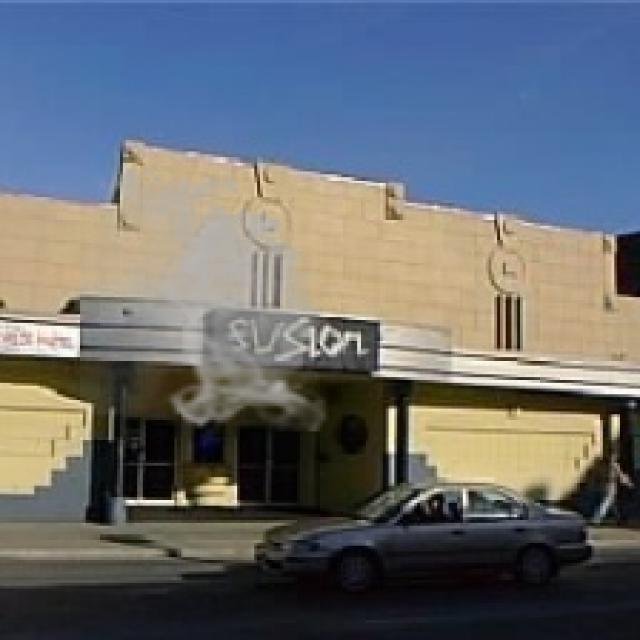Smoke: (80, 157, 340, 432)
